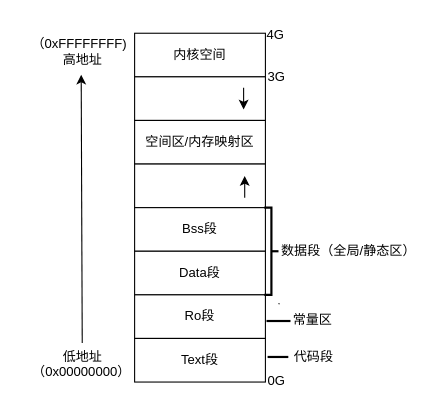
The diagram is 448 pixels wide and 415 high, and some of its shapes have lost their labels. Each missing label, with the centre of its shape:
"堆区（Heap ）" belongs at (x=199, y=185).
"栈区（Stack）" belongs at (x=199, y=98).
